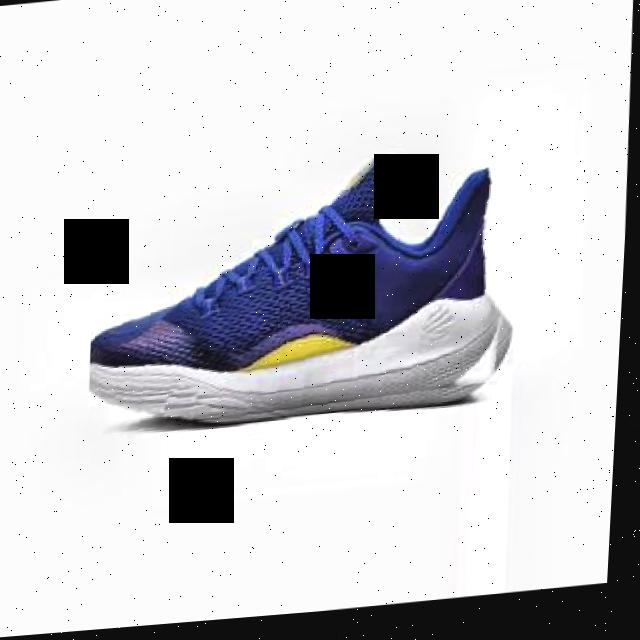shoe: (88, 152, 524, 439)
